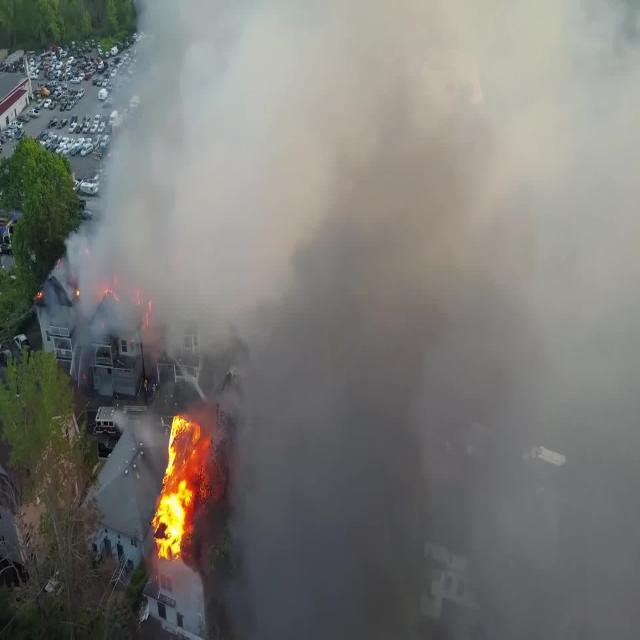Fire: (152, 396, 221, 563), (38, 266, 168, 350)
Smoke: (68, 0, 640, 637)
